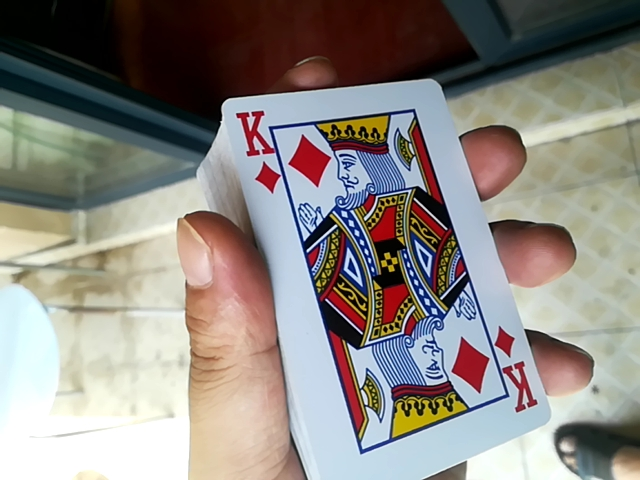fk k: (216, 77, 543, 472)
